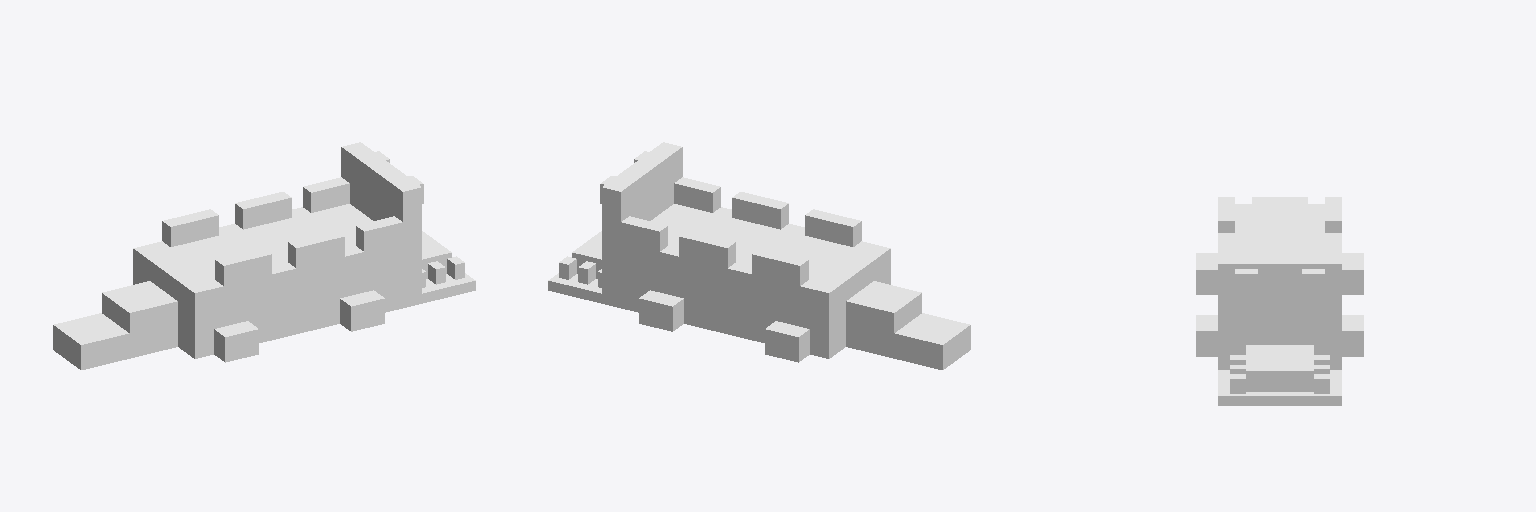
Rendered from crocodile-01.obj.
The picture shows the model from 3 angles: view 1: azimuth 30°, elevation 25°; view 2: azimuth 150°, elevation 25°; view 3: azimuth 270°, elevation 25°; orthographic projection.
Bounding box in the file's own units: 78 × 23 × 30.